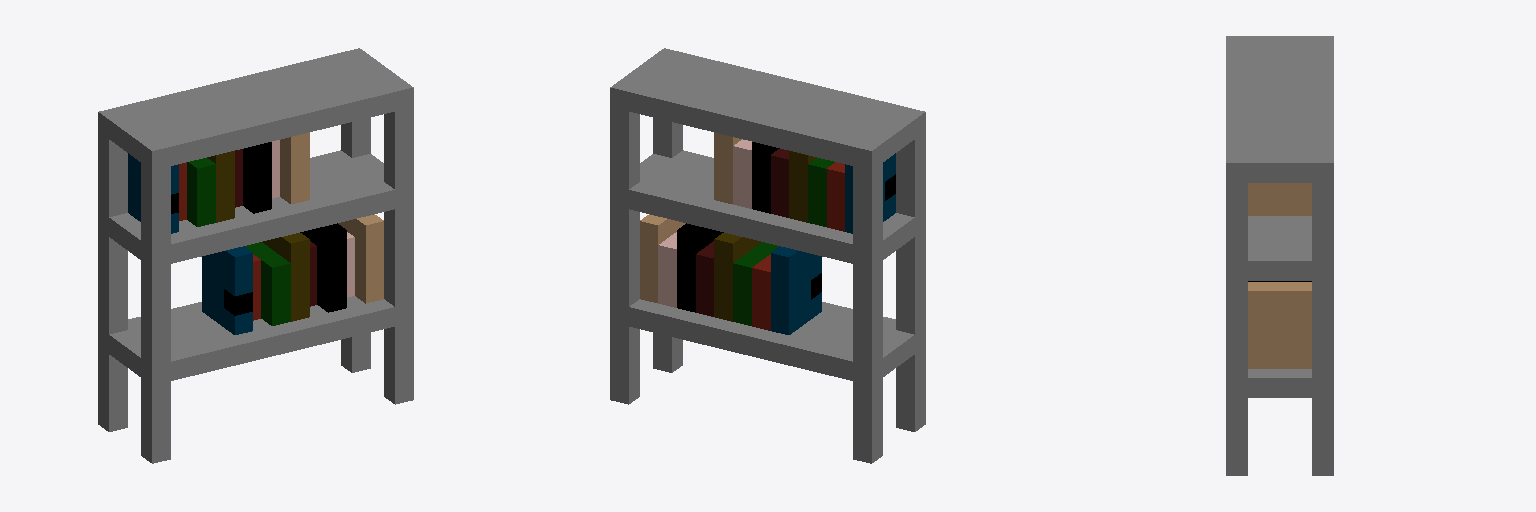
3 views of the same model, side by side, from view 1: azimuth 30°, elevation 25°; view 2: azimuth 150°, elevation 25°; view 3: azimuth 270°, elevation 25° (orthographic).
Visible parts, largest first — view 1: object 1; view 2: object 1; view 3: object 1.
Boxes of the visible parts, x1,y1,x2,y2 form: object 1: [98, 48, 413, 463]; object 1: [610, 48, 925, 463]; object 1: [1226, 36, 1333, 475].
Bounding box in the file's own units: 1.4 × 1.6 × 0.5.
Materials: 1 (1 with a texture image).